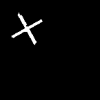single_crochet: (12, 14, 41, 43)
